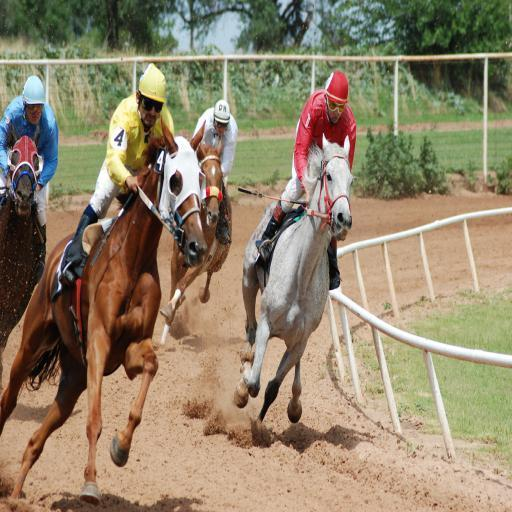horse: (0, 112, 207, 511), (234, 132, 356, 426), (158, 138, 234, 346), (0, 120, 47, 384)
